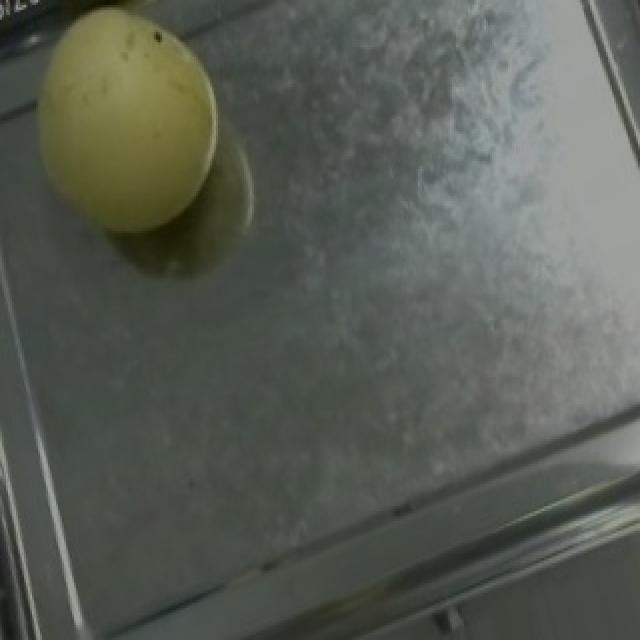Fruit: (0, 0, 256, 270)
